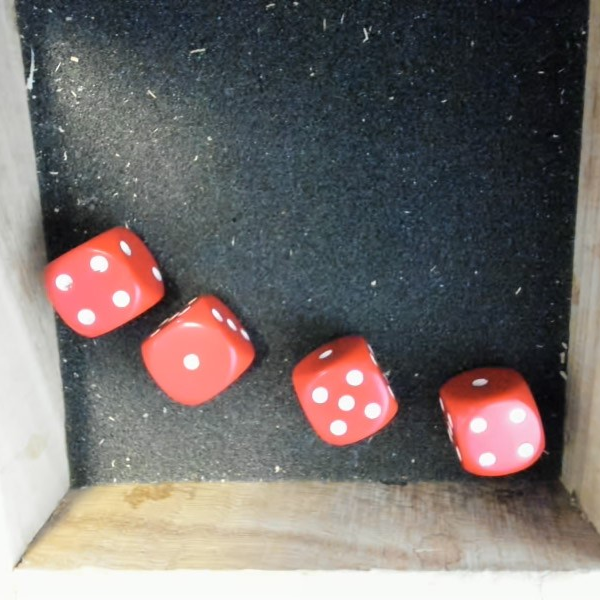red_die_pip1: (131, 286, 264, 416)
red_die_pip4: (37, 218, 172, 349), (432, 361, 552, 491)
red_die_pip5: (279, 326, 409, 460)
